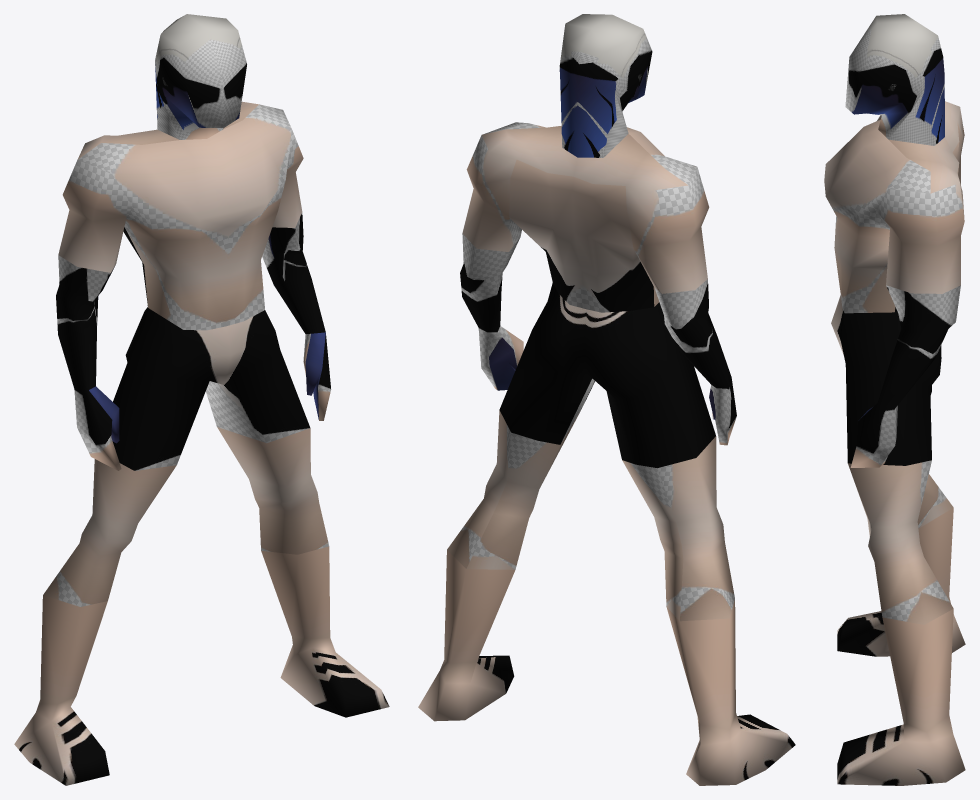
File: scrumer-team-a.gltf
3 renders of one model, left to right at view 1: azimuth 30°, elevation 25°; view 2: azimuth 150°, elevation 25°; view 3: azimuth 270°, elevation 25°, orthographic. The views are drawn at different scales.
Bounding box in the file's own units: 3.65 × 7.42 × 1.39.
Materials: 1 (1 with a texture image).
